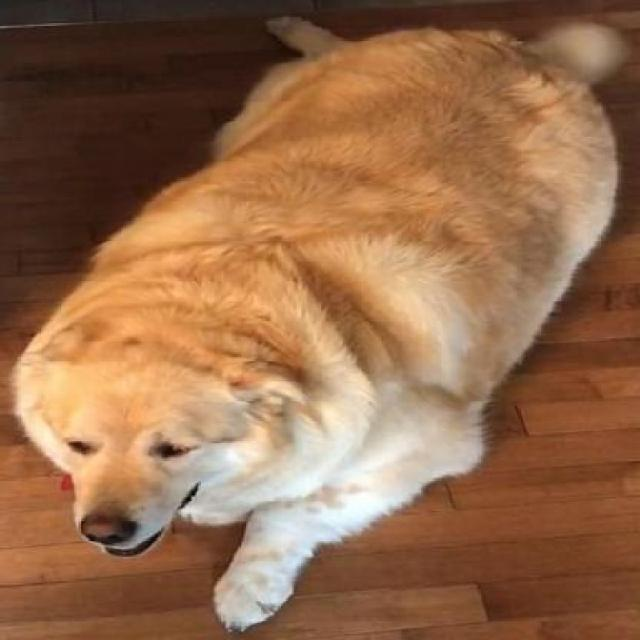Dog: (9, 11, 628, 638)
